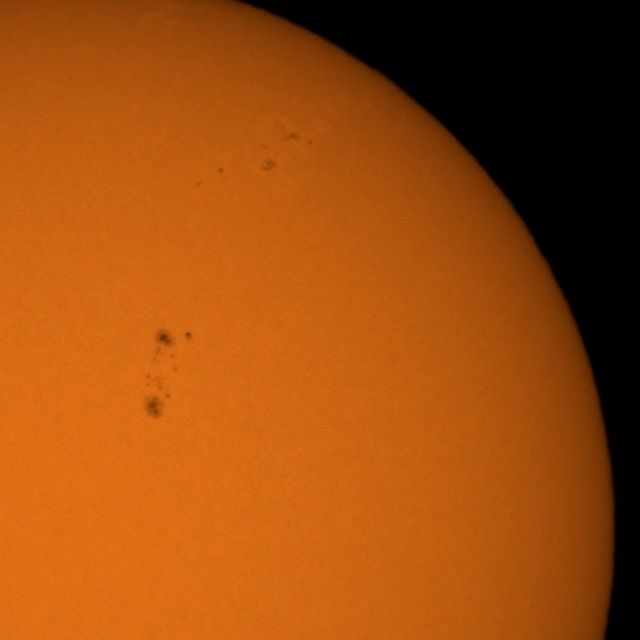sunspot: (152, 329, 192, 369), (142, 382, 171, 420), (260, 144, 279, 174), (287, 130, 312, 147), (288, 130, 300, 142), (184, 331, 193, 342), (217, 167, 225, 175), (195, 180, 202, 187)
